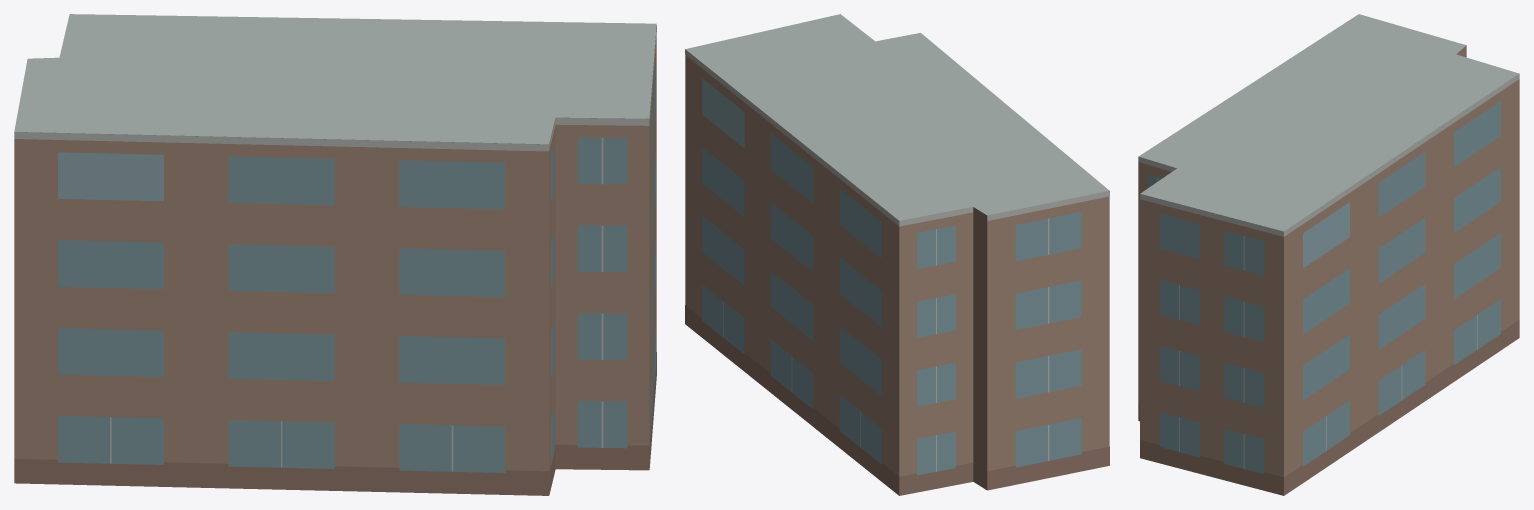
The model's file is survey-upis-32620872.glb.
The picture shows the model from 3 angles, left to right: view 1: azimuth 30°, elevation 25°; view 2: azimuth 150°, elevation 25°; view 3: azimuth 270°, elevation 25°; orthographic projection. The views are drawn at different scales.
Parts seen in each view (by area): view 1: survey-upis-32620872.tmp; view 2: survey-upis-32620872.tmp; view 3: survey-upis-32620872.tmp.
Boxes of the visible parts, x1,y1,x2,y2 form: survey-upis-32620872.tmp: (14, 14, 656, 495); survey-upis-32620872.tmp: (685, 14, 1109, 495); survey-upis-32620872.tmp: (1138, 14, 1519, 495).
Size of the model in its own units: 21.18 by 12 by 15.69.
